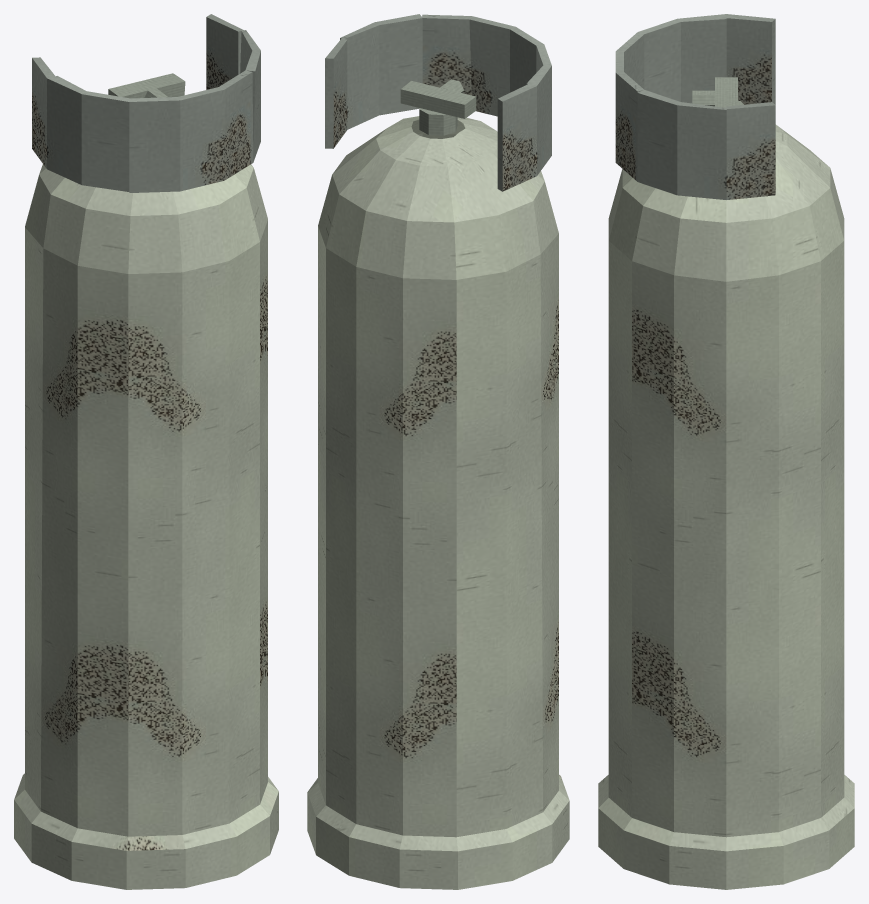
File: propane_v1.glb
3 views of the same model, side by side, from view 1: azimuth 30°, elevation 25°; view 2: azimuth 150°, elevation 25°; view 3: azimuth 270°, elevation 25° (orthographic).
Visible parts, largest first — view 1: Variant_propane_1; view 2: Variant_propane_1; view 3: Variant_propane_1.
Boxes of the visible parts, x1,y1,x2,y2 form: Variant_propane_1: (14,14,278,889); Variant_propane_1: (307,14,569,889); Variant_propane_1: (598,14,854,889).
Size of the model in its own units: 0.37 by 1.2 by 0.3607.
3 materials, 3 textured.
